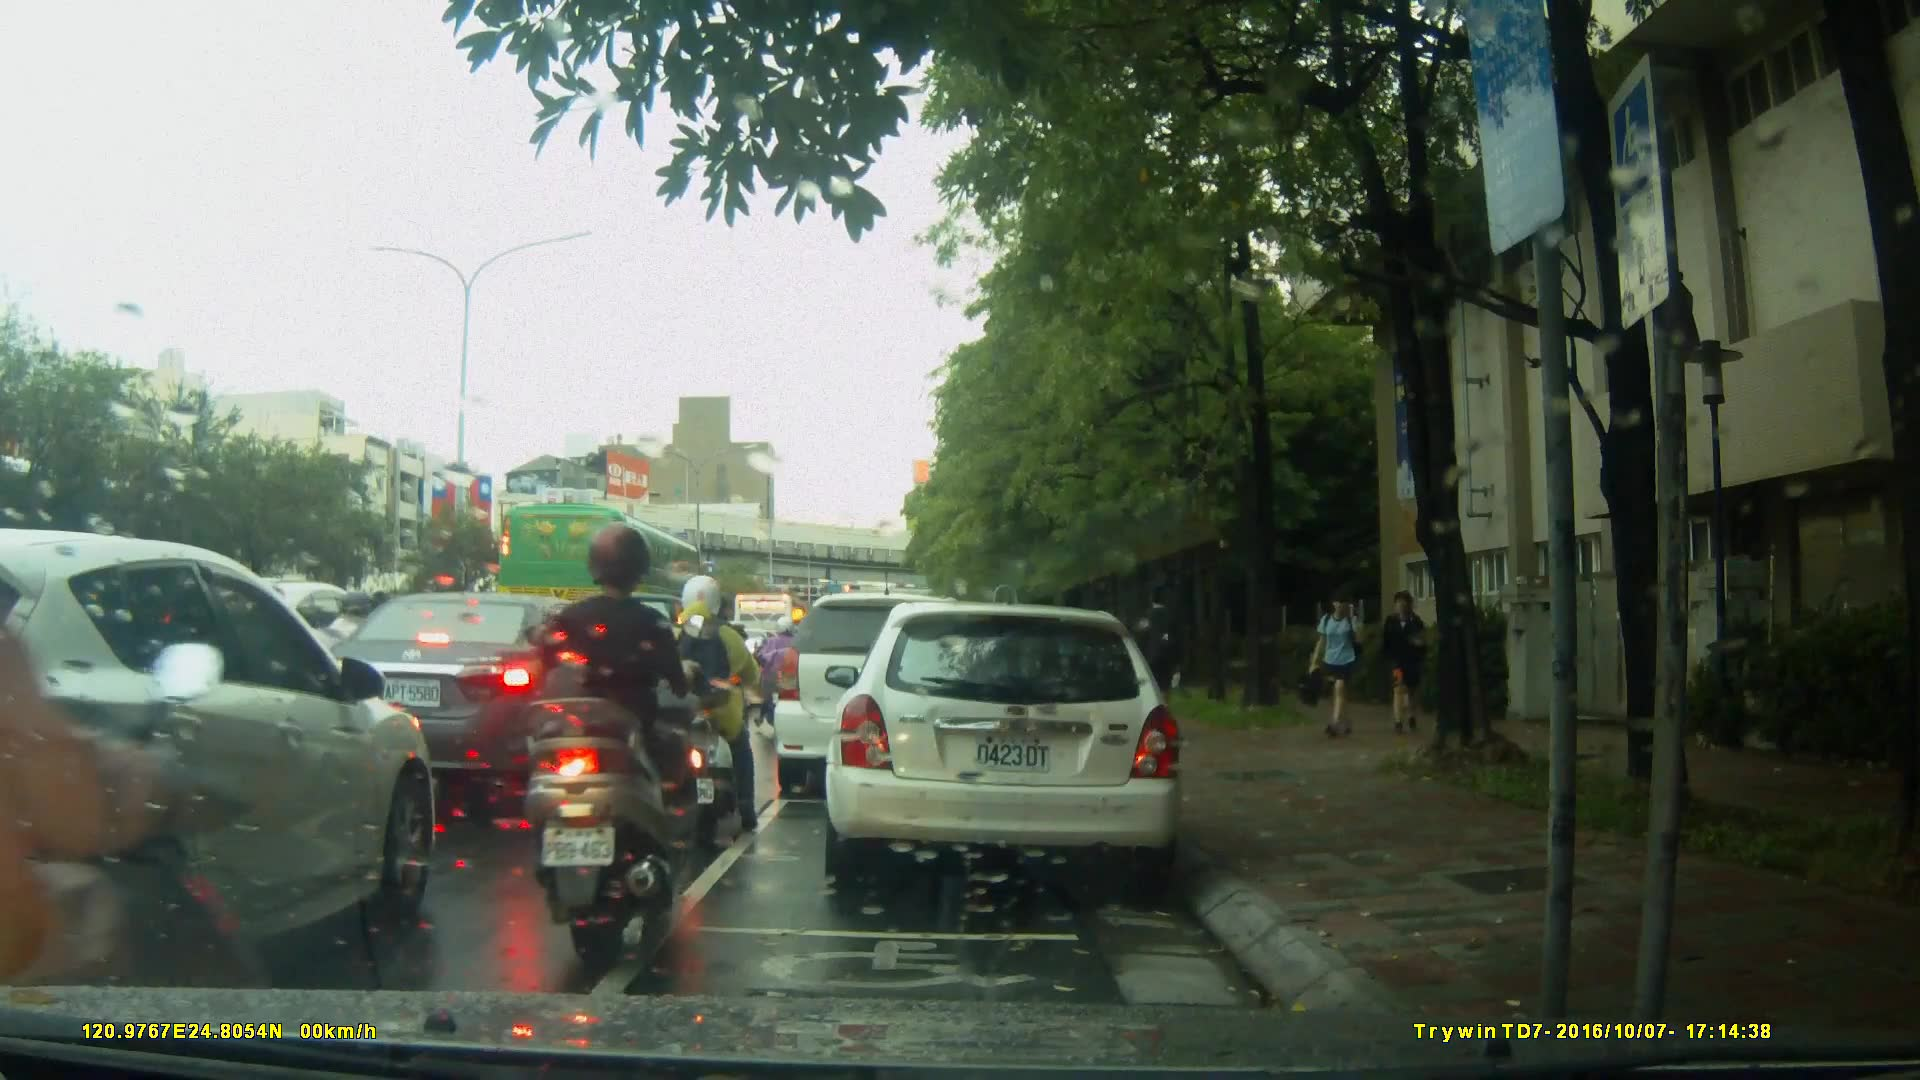pedestrian: (1299, 585, 1369, 743), (1379, 581, 1429, 740), (1137, 591, 1187, 745)
rider: (1, 406, 274, 1079), (512, 525, 687, 961), (658, 571, 763, 836), (756, 613, 812, 722)
vehicle: (1, 529, 444, 987), (831, 592, 1196, 897), (312, 590, 649, 807), (770, 592, 999, 801), (495, 502, 707, 639)
